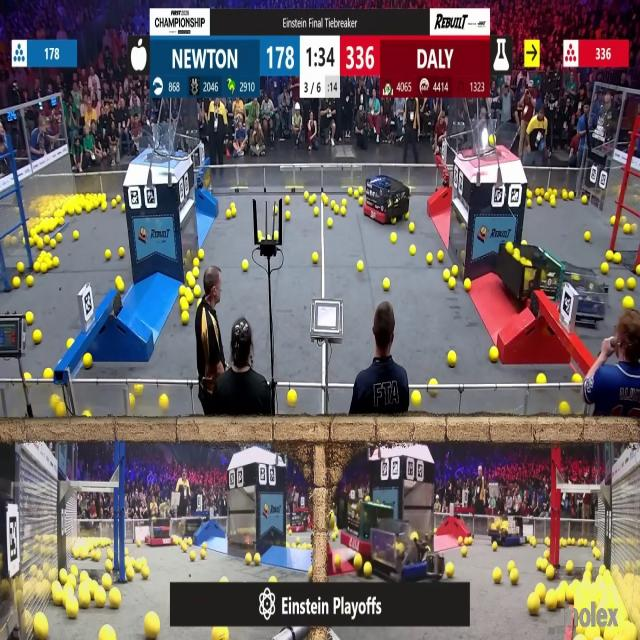ball_airborne: (489, 136, 494, 146)
ball_ground: (145, 614, 159, 640), (528, 594, 540, 614), (109, 590, 120, 610), (67, 600, 78, 618), (100, 626, 114, 640), (78, 592, 90, 608), (95, 592, 106, 608), (545, 596, 555, 612), (560, 403, 570, 418), (161, 394, 170, 410), (353, 555, 362, 571), (57, 404, 67, 418), (511, 569, 520, 584), (490, 348, 499, 362), (446, 563, 455, 577), (103, 574, 112, 588), (362, 563, 371, 577), (536, 585, 545, 599), (449, 351, 457, 366), (624, 296, 634, 308), (288, 390, 296, 405), (83, 353, 91, 368), (494, 568, 502, 583), (566, 589, 574, 604), (34, 331, 42, 345), (413, 392, 421, 406), (545, 566, 553, 579), (127, 567, 135, 580), (536, 374, 545, 385), (116, 278, 123, 292), (141, 567, 149, 579), (334, 556, 342, 568), (27, 312, 34, 325), (383, 278, 390, 291), (181, 312, 188, 325), (601, 264, 609, 275), (618, 279, 626, 290), (628, 278, 636, 289), (192, 286, 200, 297), (44, 367, 52, 378), (464, 279, 471, 291), (253, 554, 260, 566), (245, 554, 252, 566), (61, 570, 68, 582), (572, 375, 580, 385), (180, 302, 188, 312), (70, 566, 78, 576), (536, 559, 543, 570), (106, 560, 113, 571), (445, 270, 451, 282), (566, 561, 572, 573), (452, 266, 458, 278), (615, 252, 622, 262), (12, 278, 19, 288), (191, 269, 198, 279), (54, 257, 61, 267), (461, 545, 468, 555), (68, 206, 75, 216), (80, 572, 87, 582), (597, 566, 604, 576), (313, 252, 319, 263), (450, 278, 456, 289), (105, 249, 111, 260), (439, 251, 445, 262), (68, 339, 74, 350), (321, 192, 327, 203), (506, 243, 512, 254), (135, 560, 141, 571), (270, 575, 278, 583), (429, 379, 437, 387), (624, 223, 631, 232), (40, 265, 47, 274), (58, 216, 65, 225), (28, 277, 34, 287), (243, 262, 249, 272), (586, 232, 592, 242), (427, 253, 433, 263), (17, 264, 23, 274), (410, 222, 416, 232), (180, 286, 186, 296), (507, 561, 513, 571), (199, 250, 205, 260), (34, 264, 40, 274), (189, 552, 195, 562), (551, 198, 557, 208), (185, 272, 191, 282), (108, 550, 114, 560), (185, 286, 191, 296), (433, 252, 439, 262), (47, 256, 53, 266), (587, 562, 594, 570), (49, 240, 56, 248), (391, 234, 396, 245), (411, 246, 417, 255), (73, 232, 79, 241), (492, 541, 498, 550), (326, 218, 332, 227), (466, 536, 472, 545), (568, 190, 574, 199), (57, 235, 63, 244), (606, 251, 612, 260), (531, 537, 537, 546), (329, 201, 335, 210), (100, 202, 106, 211), (118, 248, 123, 258), (358, 263, 363, 273), (314, 208, 320, 216), (274, 233, 280, 241), (341, 207, 347, 215), (536, 198, 542, 206), (583, 197, 589, 205), (358, 199, 364, 207), (34, 238, 40, 246), (284, 212, 290, 220), (182, 542, 188, 550), (309, 198, 315, 206), (25, 373, 31, 381), (610, 216, 615, 225), (563, 189, 568, 198), (76, 206, 81, 215), (123, 550, 129, 557), (83, 412, 89, 419), (284, 195, 290, 202), (535, 188, 541, 195), (348, 188, 354, 195), (459, 536, 464, 544), (636, 266, 640, 276), (225, 210, 230, 218), (543, 552, 548, 560), (112, 200, 117, 208), (527, 200, 532, 208), (192, 258, 197, 266), (527, 190, 532, 198), (353, 190, 358, 198), (187, 537, 192, 545), (44, 237, 49, 245), (331, 532, 336, 540), (560, 538, 565, 546), (544, 537, 548, 546), (220, 576, 226, 582), (233, 208, 237, 217), (392, 217, 397, 224), (522, 240, 527, 247), (202, 551, 206, 559), (407, 213, 411, 221), (275, 207, 279, 215), (305, 191, 309, 199), (257, 232, 261, 240), (269, 234, 273, 242), (232, 203, 237, 209), (120, 205, 124, 212), (116, 194, 120, 201), (344, 201, 348, 208), (296, 536, 300, 543), (204, 541, 208, 547), (138, 540, 142, 546)
goal: (466, 124, 521, 160), (130, 130, 188, 160)
robot_blue: (552, 254, 612, 328), (379, 525, 435, 583), (489, 514, 524, 547)
robot_red: (502, 243, 562, 312), (339, 498, 395, 558), (364, 176, 409, 224), (147, 518, 173, 546), (286, 512, 308, 532)
